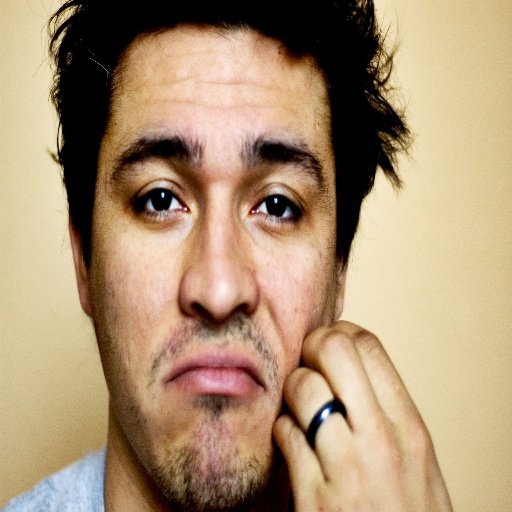hand: (272, 318, 459, 512)
